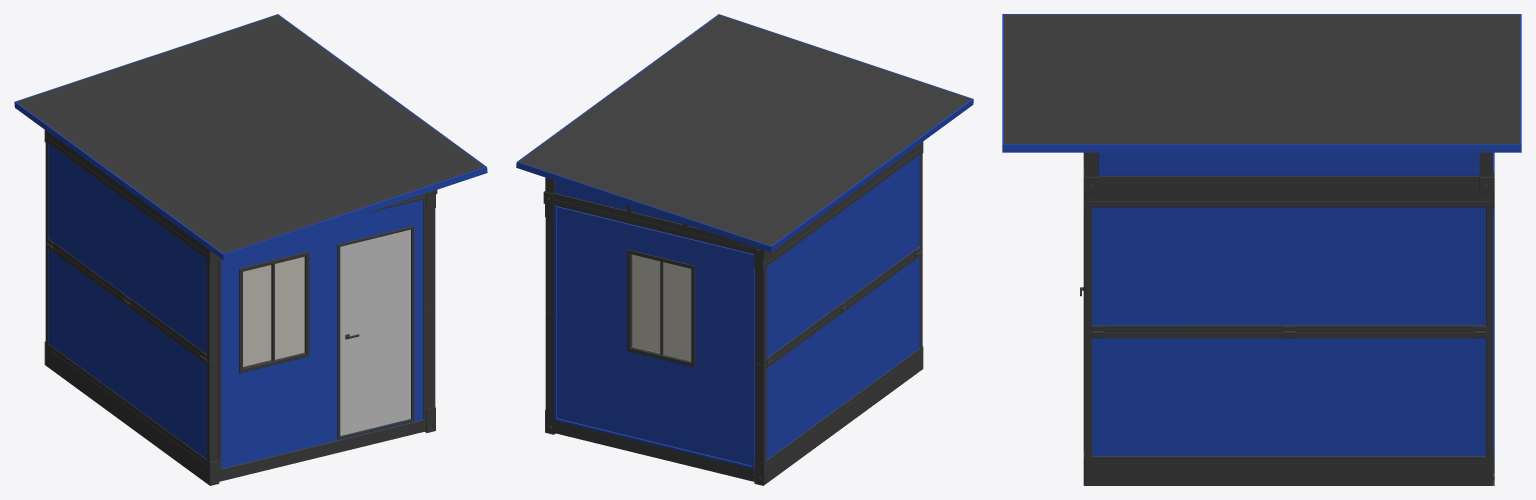
Rendered from basebox72.glb.
3 renders of one model, left to right at view 1: azimuth 30°, elevation 25°; view 2: azimuth 150°, elevation 25°; view 3: azimuth 270°, elevation 25°, orthographic. The views are drawn at different scales.
Visible parts, largest first — view 1: Plane.013, Plane.004, Plane.008, Plane.015, Plane.016; view 2: Plane.013, Plane.008, Plane.010, Plane.011, Plane.016, Plane.014, Plane.015; view 3: Plane.015, Plane.013, Plane.014, Plane.008, Plane.016, Plane.004.
Boxes of the visible parts, box(x1,y1,x2,y2) form: Plane.013: box(14, 14, 487, 260); Plane.004: box(218, 196, 426, 472); Plane.008: box(44, 137, 435, 485); Plane.015: box(426, 208, 435, 409); Plane.016: box(44, 130, 437, 262); Plane.013: box(516, 14, 973, 252); Plane.008: box(545, 148, 923, 485); Plane.010: box(554, 205, 754, 469); Plane.011: box(627, 249, 695, 367); Plane.016: box(543, 141, 923, 270); Plane.014: box(545, 177, 760, 249); Plane.015: box(545, 217, 553, 411); Plane.015: box(1085, 201, 1492, 462); Plane.013: box(1002, 14, 1521, 152); Plane.014: box(1085, 152, 1492, 183); Plane.008: box(1083, 451, 1494, 485); Plane.016: box(1083, 153, 1494, 208); Plane.004: box(1080, 152, 1085, 457).
Bounding box in the file's own units: 2.84 × 2.91 × 3.89.
